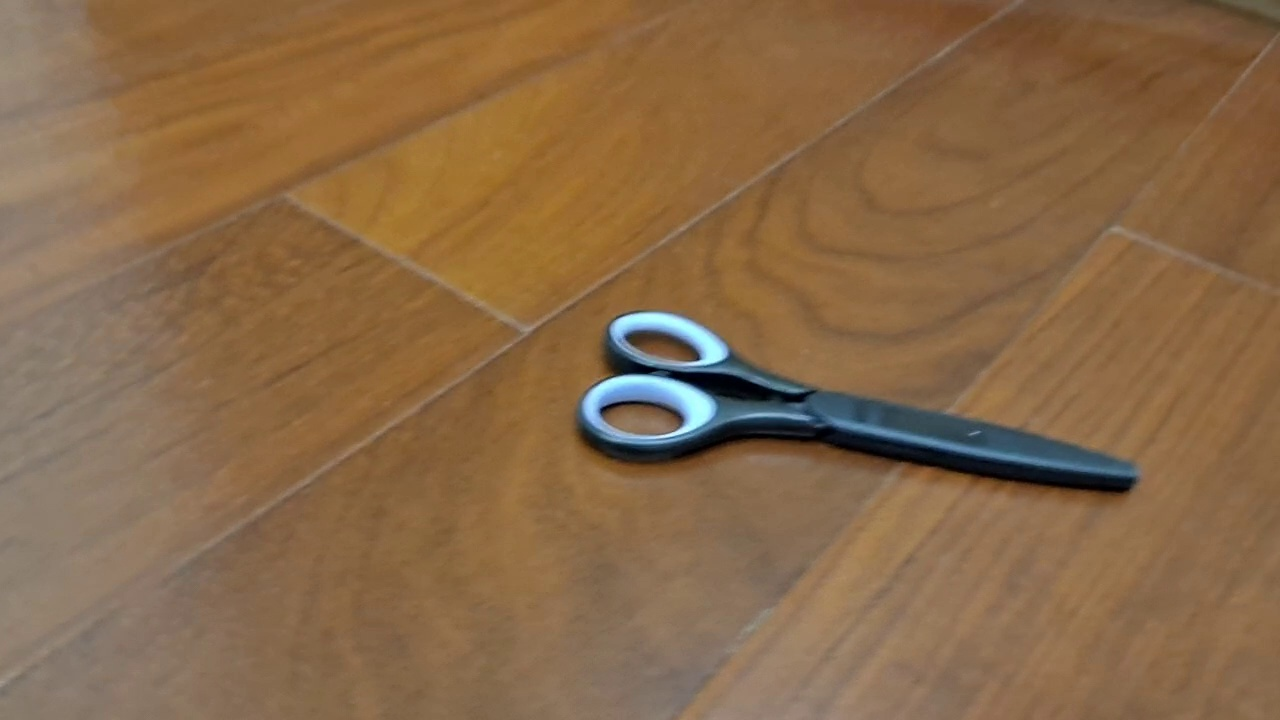scissors: (574, 308, 1141, 495)
